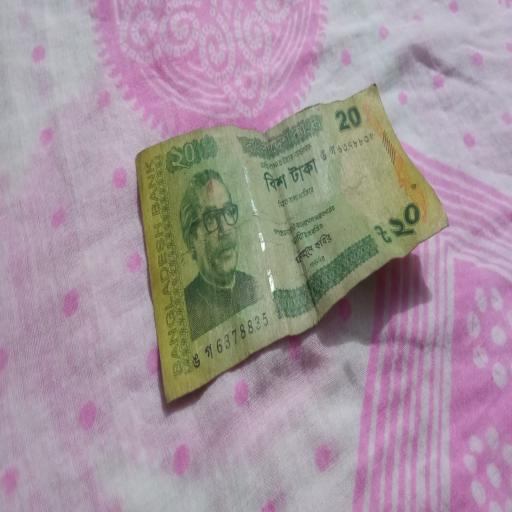200taka: (134, 81, 449, 409)
